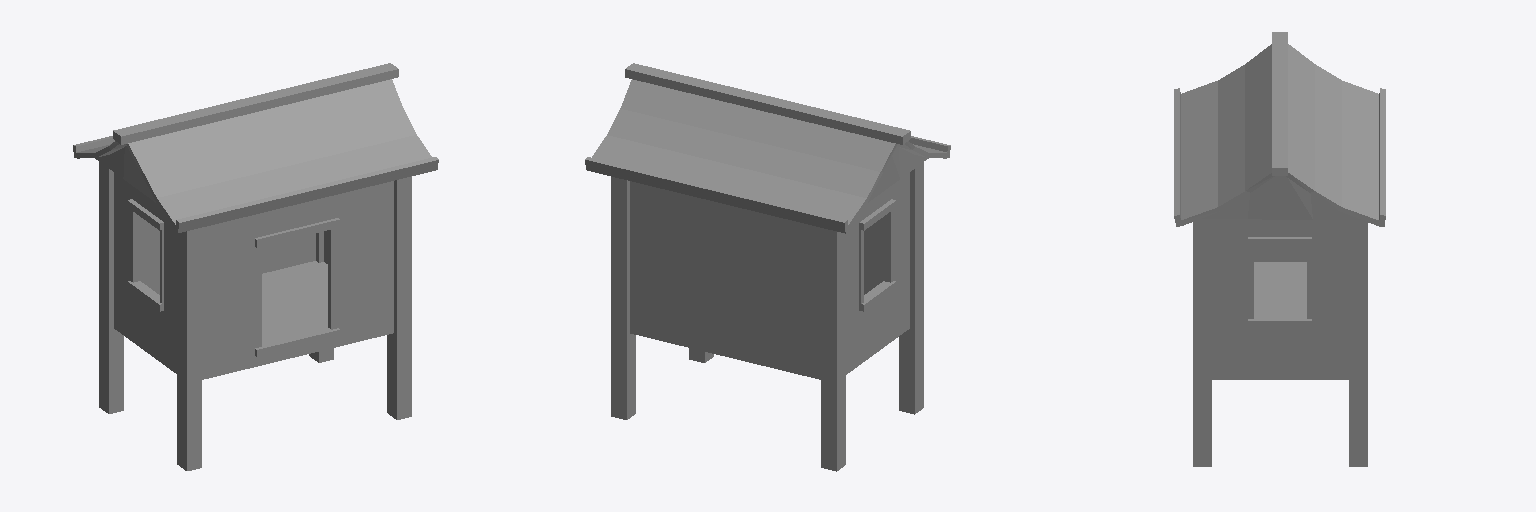
Rendered from Hut.obj.
3 views of the same model, side by side, from view 1: azimuth 30°, elevation 25°; view 2: azimuth 150°, elevation 25°; view 3: azimuth 270°, elevation 25° (orthographic).
Parts seen in each view (by area): view 1: Mesh.009_pCube1, Mesh.012_polySurface2; view 2: Mesh.009_pCube1, Mesh.012_polySurface2; view 3: Mesh.012_polySurface2, Mesh.009_pCube1.
Boxes of the visible parts, <box> form: Mesh.009_pCube1: <box>99,162,411,470</box>; Mesh.012_polySurface2: <box>73,63,438,232</box>; Mesh.009_pCube1: <box>611,162,923,471</box>; Mesh.012_polySurface2: <box>585,63,950,233</box>; Mesh.012_polySurface2: <box>1174,32,1385,226</box>; Mesh.009_pCube1: <box>1193,219,1367,466</box>.
Size of the model in its own units: 371 by 399 by 246.